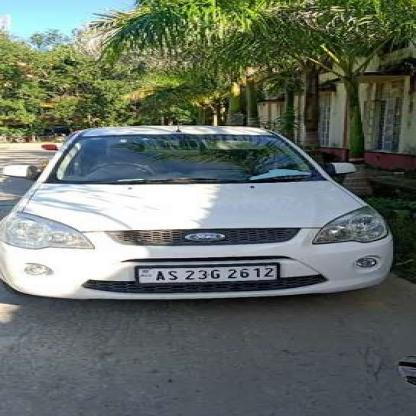license_plate: (136, 264, 278, 282)
